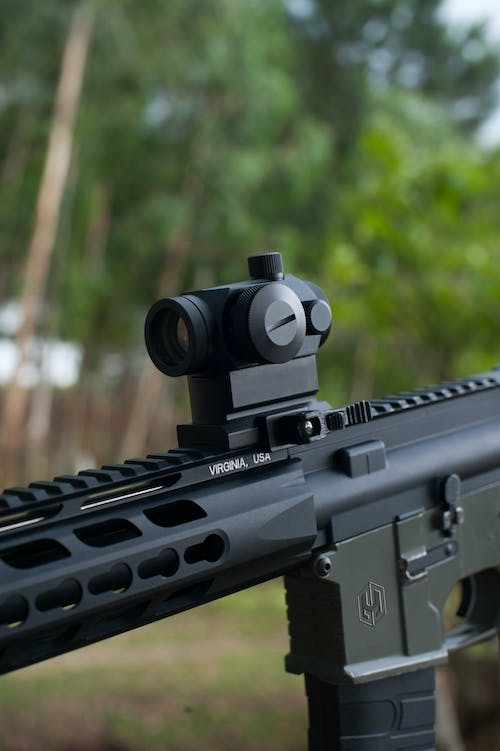gun: (0, 249, 500, 751)
